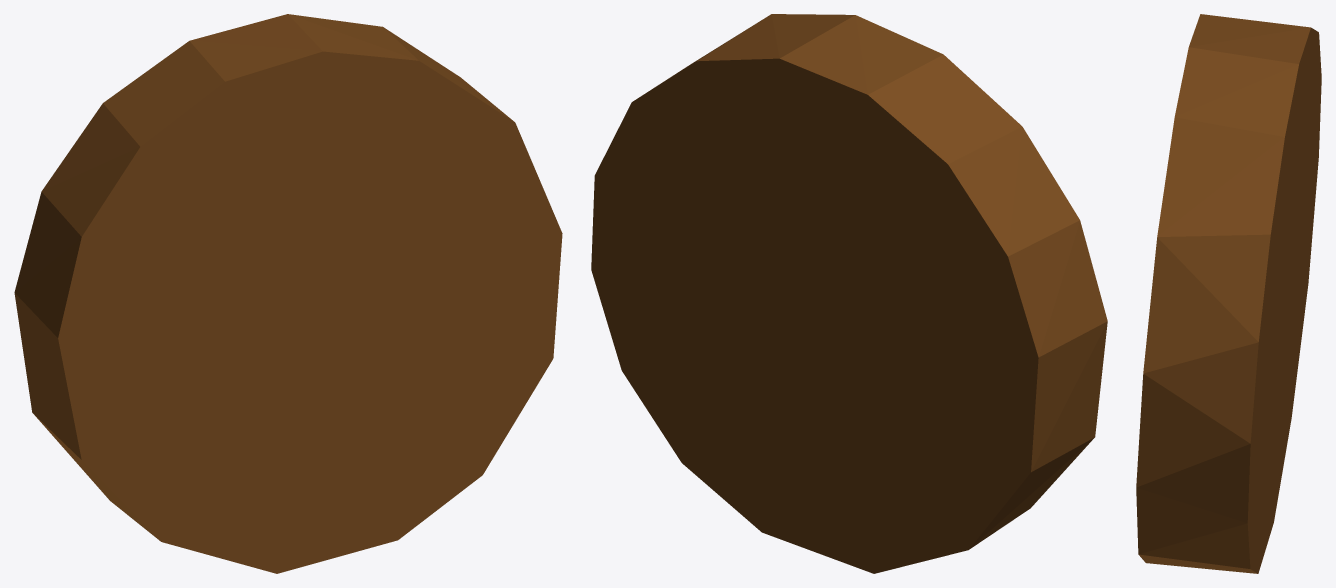
File: torso_z_link_visual_12.obj
3 renders of one model, left to right at view 1: azimuth 30°, elevation 25°; view 2: azimuth 150°, elevation 25°; view 3: azimuth 270°, elevation 25°, orthographic. The views are drawn at different scales.
Parts seen in each view (by area): view 1: i01.torso.topStom.full.013_visual.001; view 2: i01.torso.topStom.full.013_visual.001; view 3: i01.torso.topStom.full.013_visual.001.
Boxes of the visible parts, x1,y1,x2,y2 form: i01.torso.topStom.full.013_visual.001: (14, 14, 562, 573); i01.torso.topStom.full.013_visual.001: (591, 14, 1107, 573); i01.torso.topStom.full.013_visual.001: (1136, 14, 1321, 573).
Bounding box in the file's own units: 0.1694 × 0.1678 × 0.0559.
